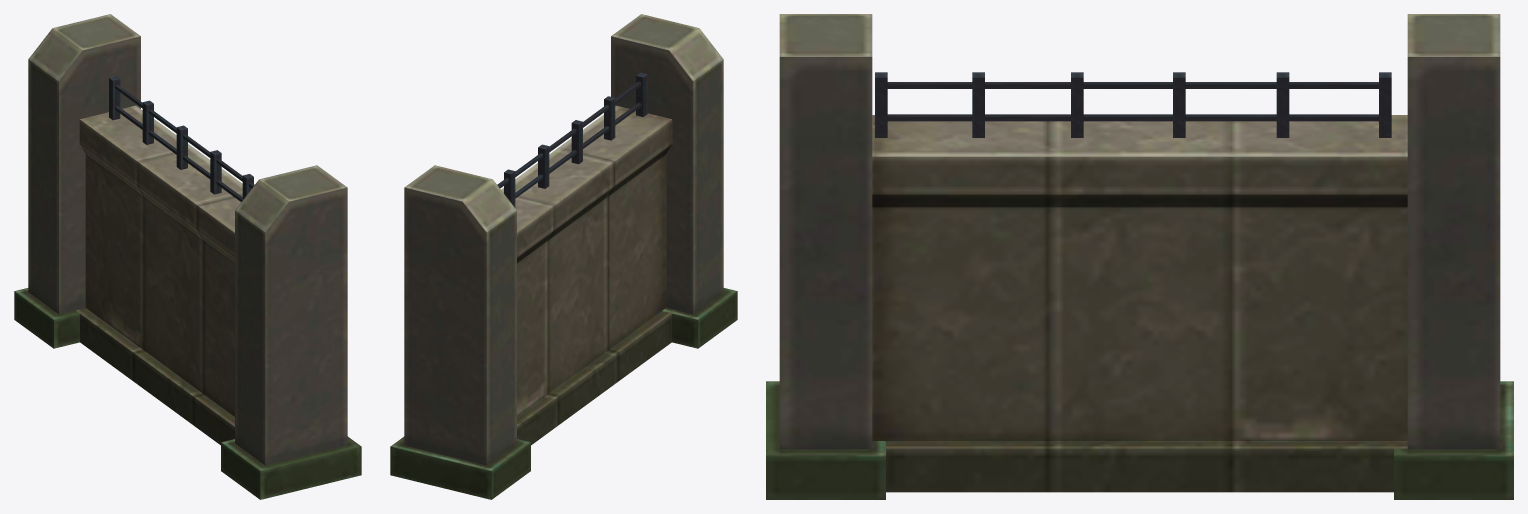
The model's file is wall02.FBX.
3 renders of one model, left to right at view 1: azimuth 30°, elevation 25°; view 2: azimuth 150°, elevation 25°; view 3: azimuth 270°, elevation 25°, orthographic. The views are drawn at different scales.
Parts seen in each view (by area): view 1: wall02; view 2: wall02; view 3: wall02.
Part boxes in pixels (x1=…): wall02: x1=14, y1=14, x2=361, y2=499; wall02: x1=390, y1=14, x2=737, y2=499; wall02: x1=766, y1=14, x2=1513, y2=499.
Size of the model in its own units: 1.32 by 3.57 by 5.55.
